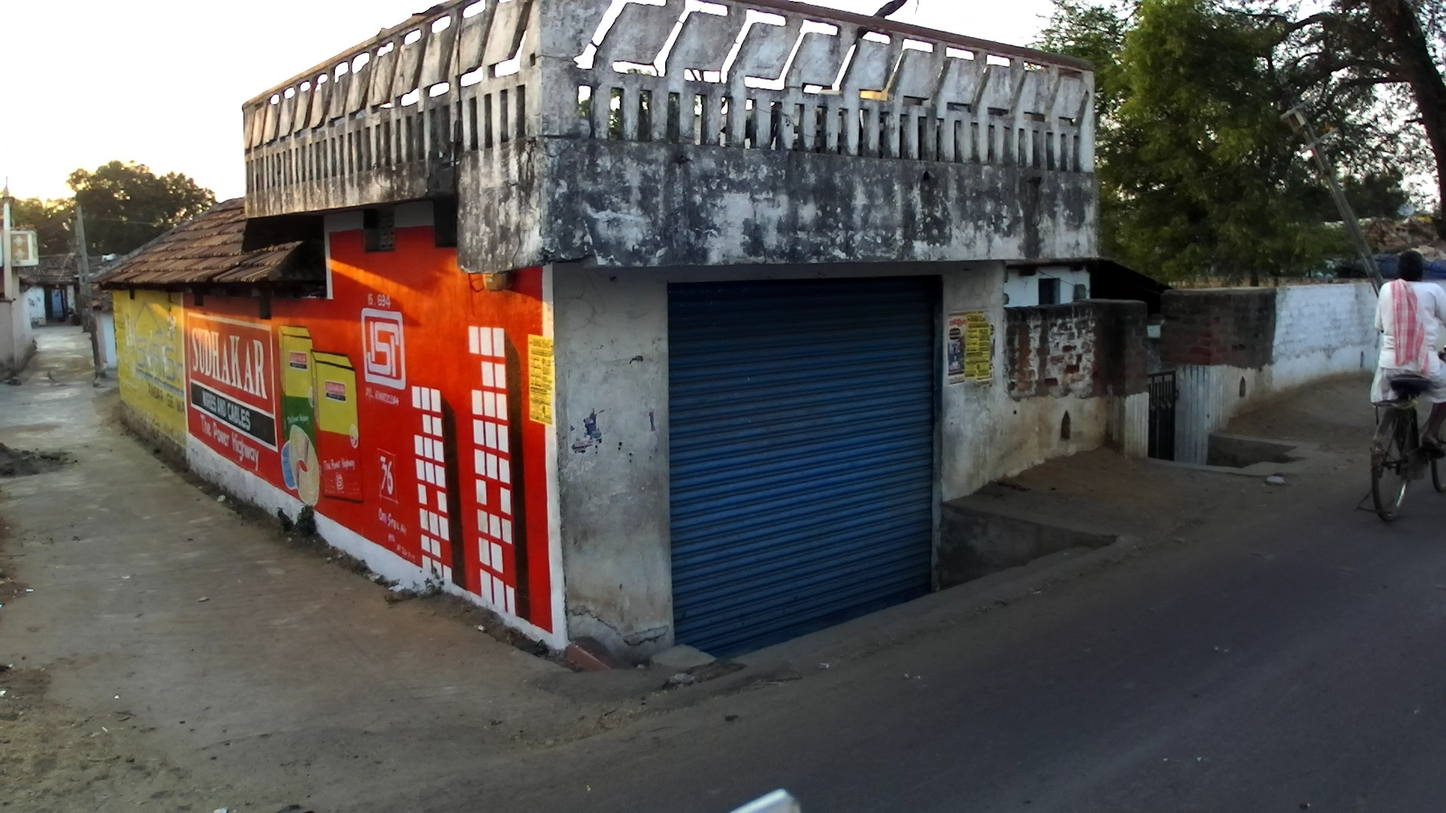bicycle: (1355, 374, 1446, 522)
rider: (1374, 251, 1446, 449)
